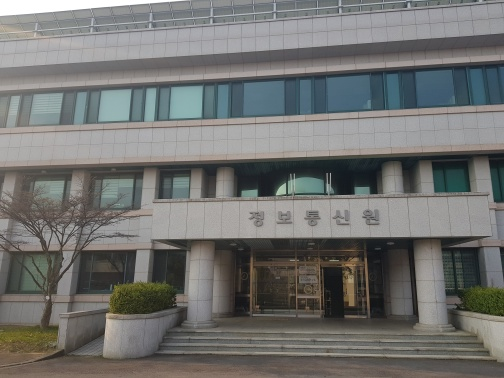Information Telecommunication Center: (2, 16, 495, 330), (221, 248, 412, 327), (236, 199, 393, 237)
